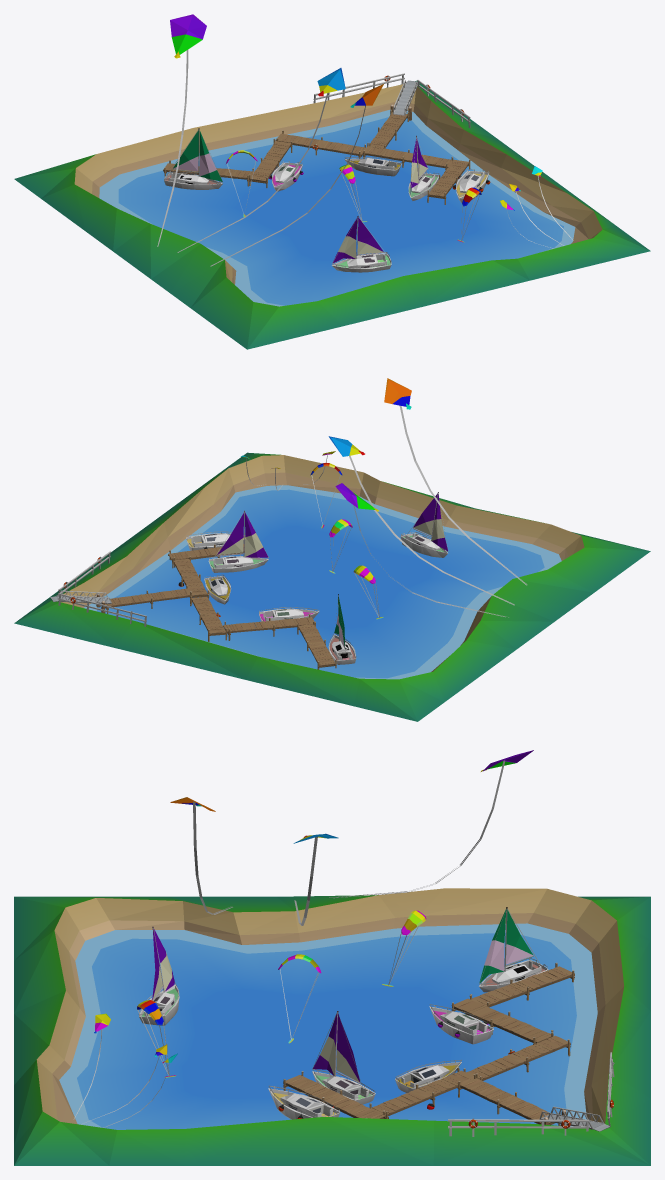
3 renders of one model, top to bottom at view 1: azimuth 30°, elevation 25°; view 2: azimuth 150°, elevation 25°; view 3: azimuth 270°, elevation 25°, orthographic. The views are drawn at different scales.
Parts seen in each view (by area): view 1: o-6; view 2: o-6; view 3: o-6.
Boxes of the visible parts, x1=… form: o-6: x1=14, y1=14, x2=650, y2=349; o-6: x1=14, y1=378, x2=650, y2=721; o-6: x1=14, y1=750, x2=650, y2=1165.
Size of the model in its own units: 1 by 0.4222 by 1.
